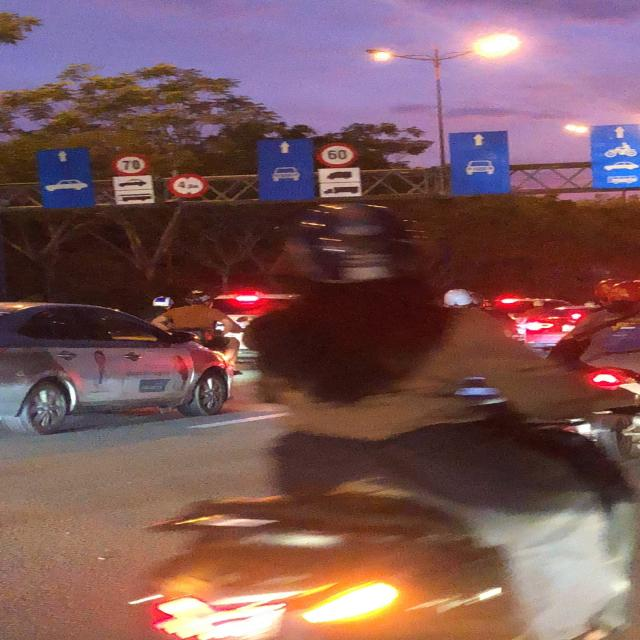Bien bao han che chieu cao: (167, 171, 212, 199)
Bien bao toc do toi da cho phep: (101, 151, 161, 177), (311, 142, 361, 170)
